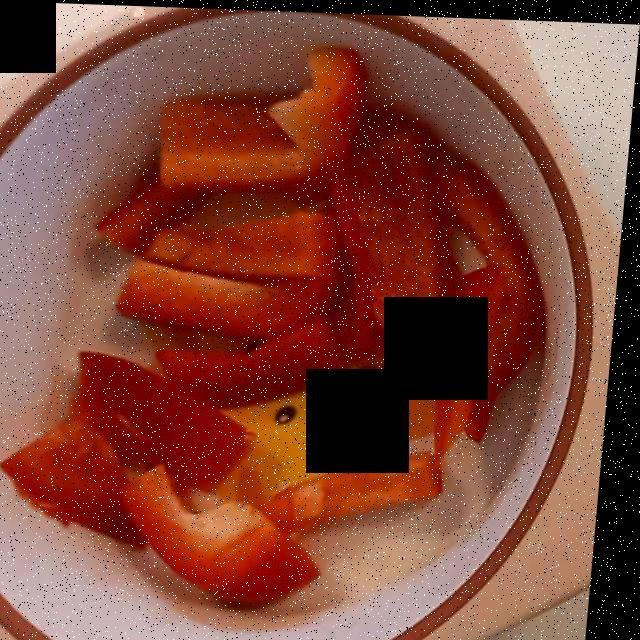bell-pepper: (25, 53, 528, 606)
